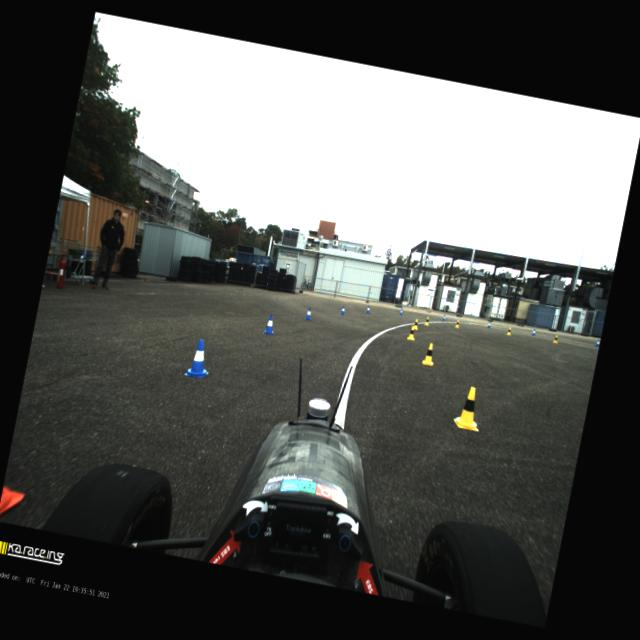blue_cone: (183, 338, 214, 382), (262, 313, 278, 337), (304, 308, 314, 322), (338, 305, 346, 316), (366, 305, 372, 315), (486, 320, 492, 330), (594, 338, 600, 348), (399, 308, 404, 317), (442, 314, 447, 322), (532, 328, 536, 337)
yellow_cone: (452, 384, 487, 432), (421, 342, 438, 367), (406, 325, 417, 341), (413, 318, 420, 331), (552, 334, 560, 344), (424, 316, 431, 326), (506, 327, 513, 336), (454, 320, 461, 329)
